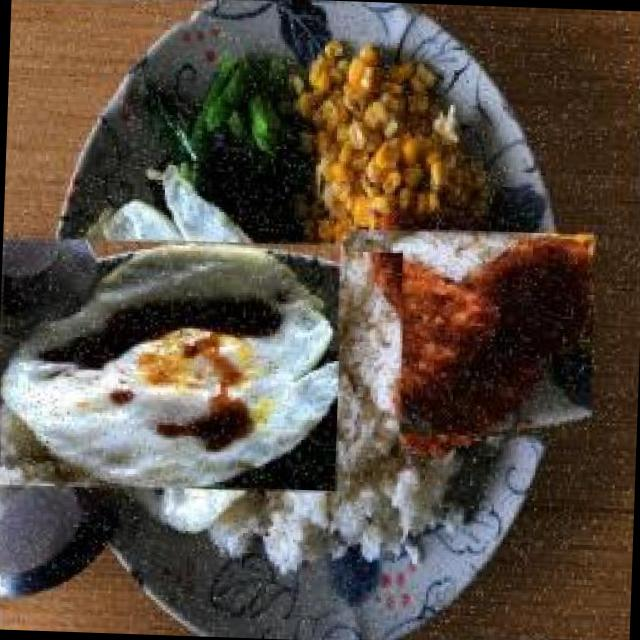fried_eggs: (13, 210, 322, 518)
rice: (272, 248, 408, 572)
triangle_hash_brown: (348, 214, 586, 452)
water_spinach: (131, 49, 302, 222)
